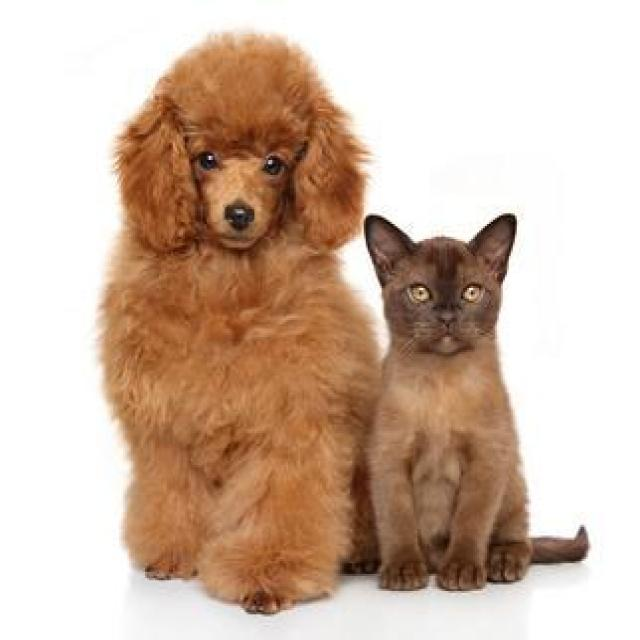cat: (352, 203, 547, 402)
dog: (97, 20, 372, 318)
